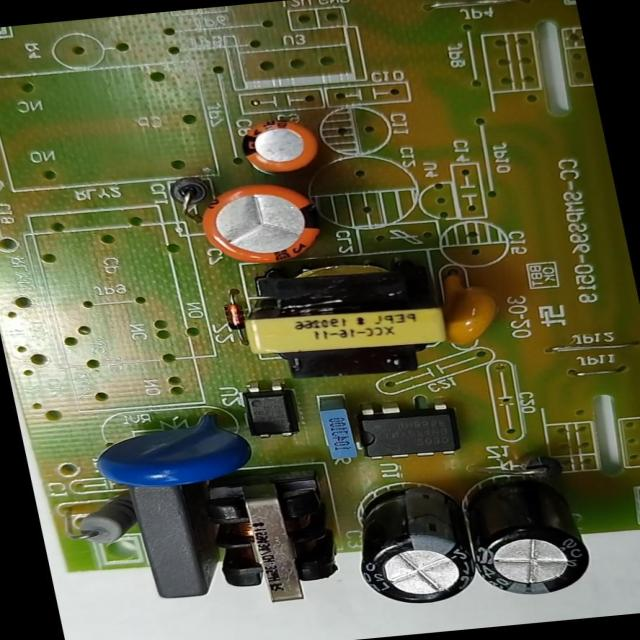Cap1: (187, 174, 336, 278)
Cap2: (230, 110, 331, 182)
Cap3: (340, 478, 486, 612)
Cap4: (451, 466, 601, 603)
MOSFET: (342, 395, 472, 467)
Mov: (79, 406, 270, 496)
Resistor: (63, 493, 153, 553)
Transformer: (223, 245, 462, 391), (189, 463, 352, 612)
